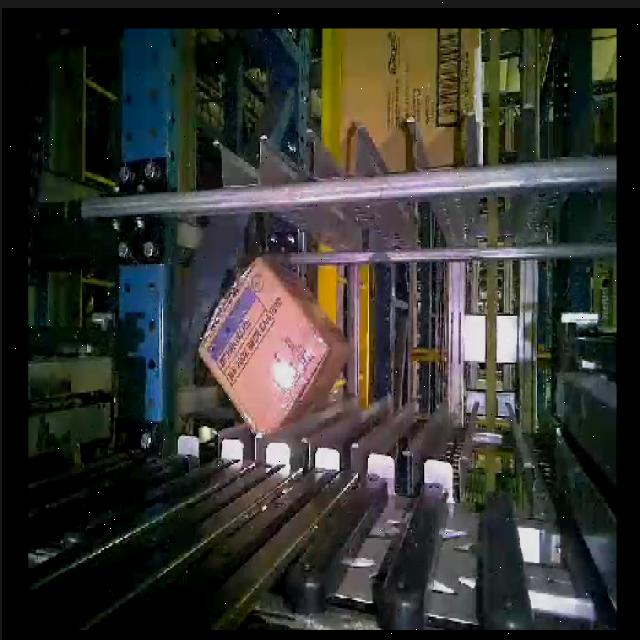box: (261, 243, 350, 353)
